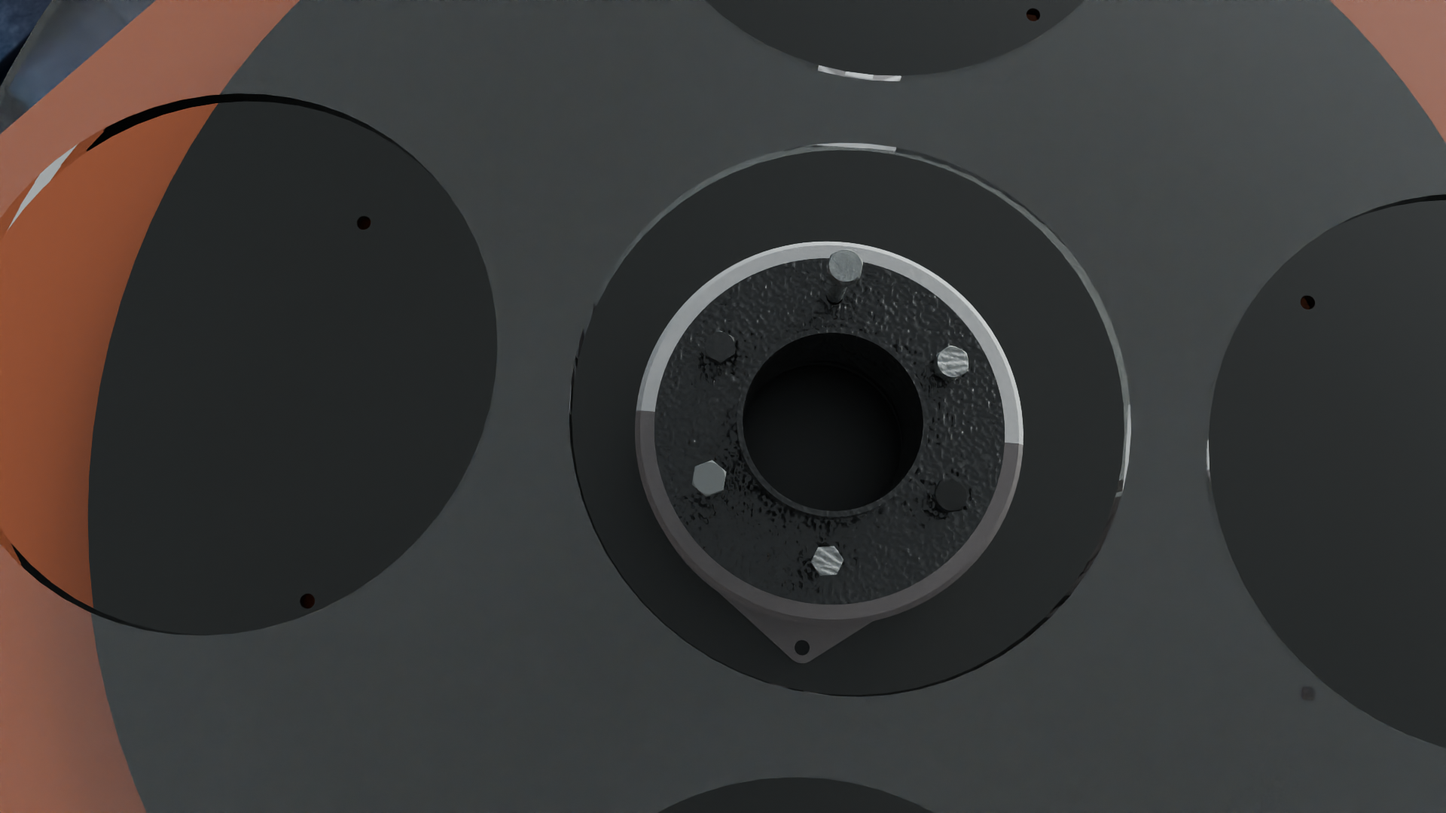bolt: (827, 249, 863, 285), (692, 460, 726, 496), (936, 346, 969, 380), (934, 480, 969, 512), (704, 330, 735, 363), (811, 546, 844, 576)
